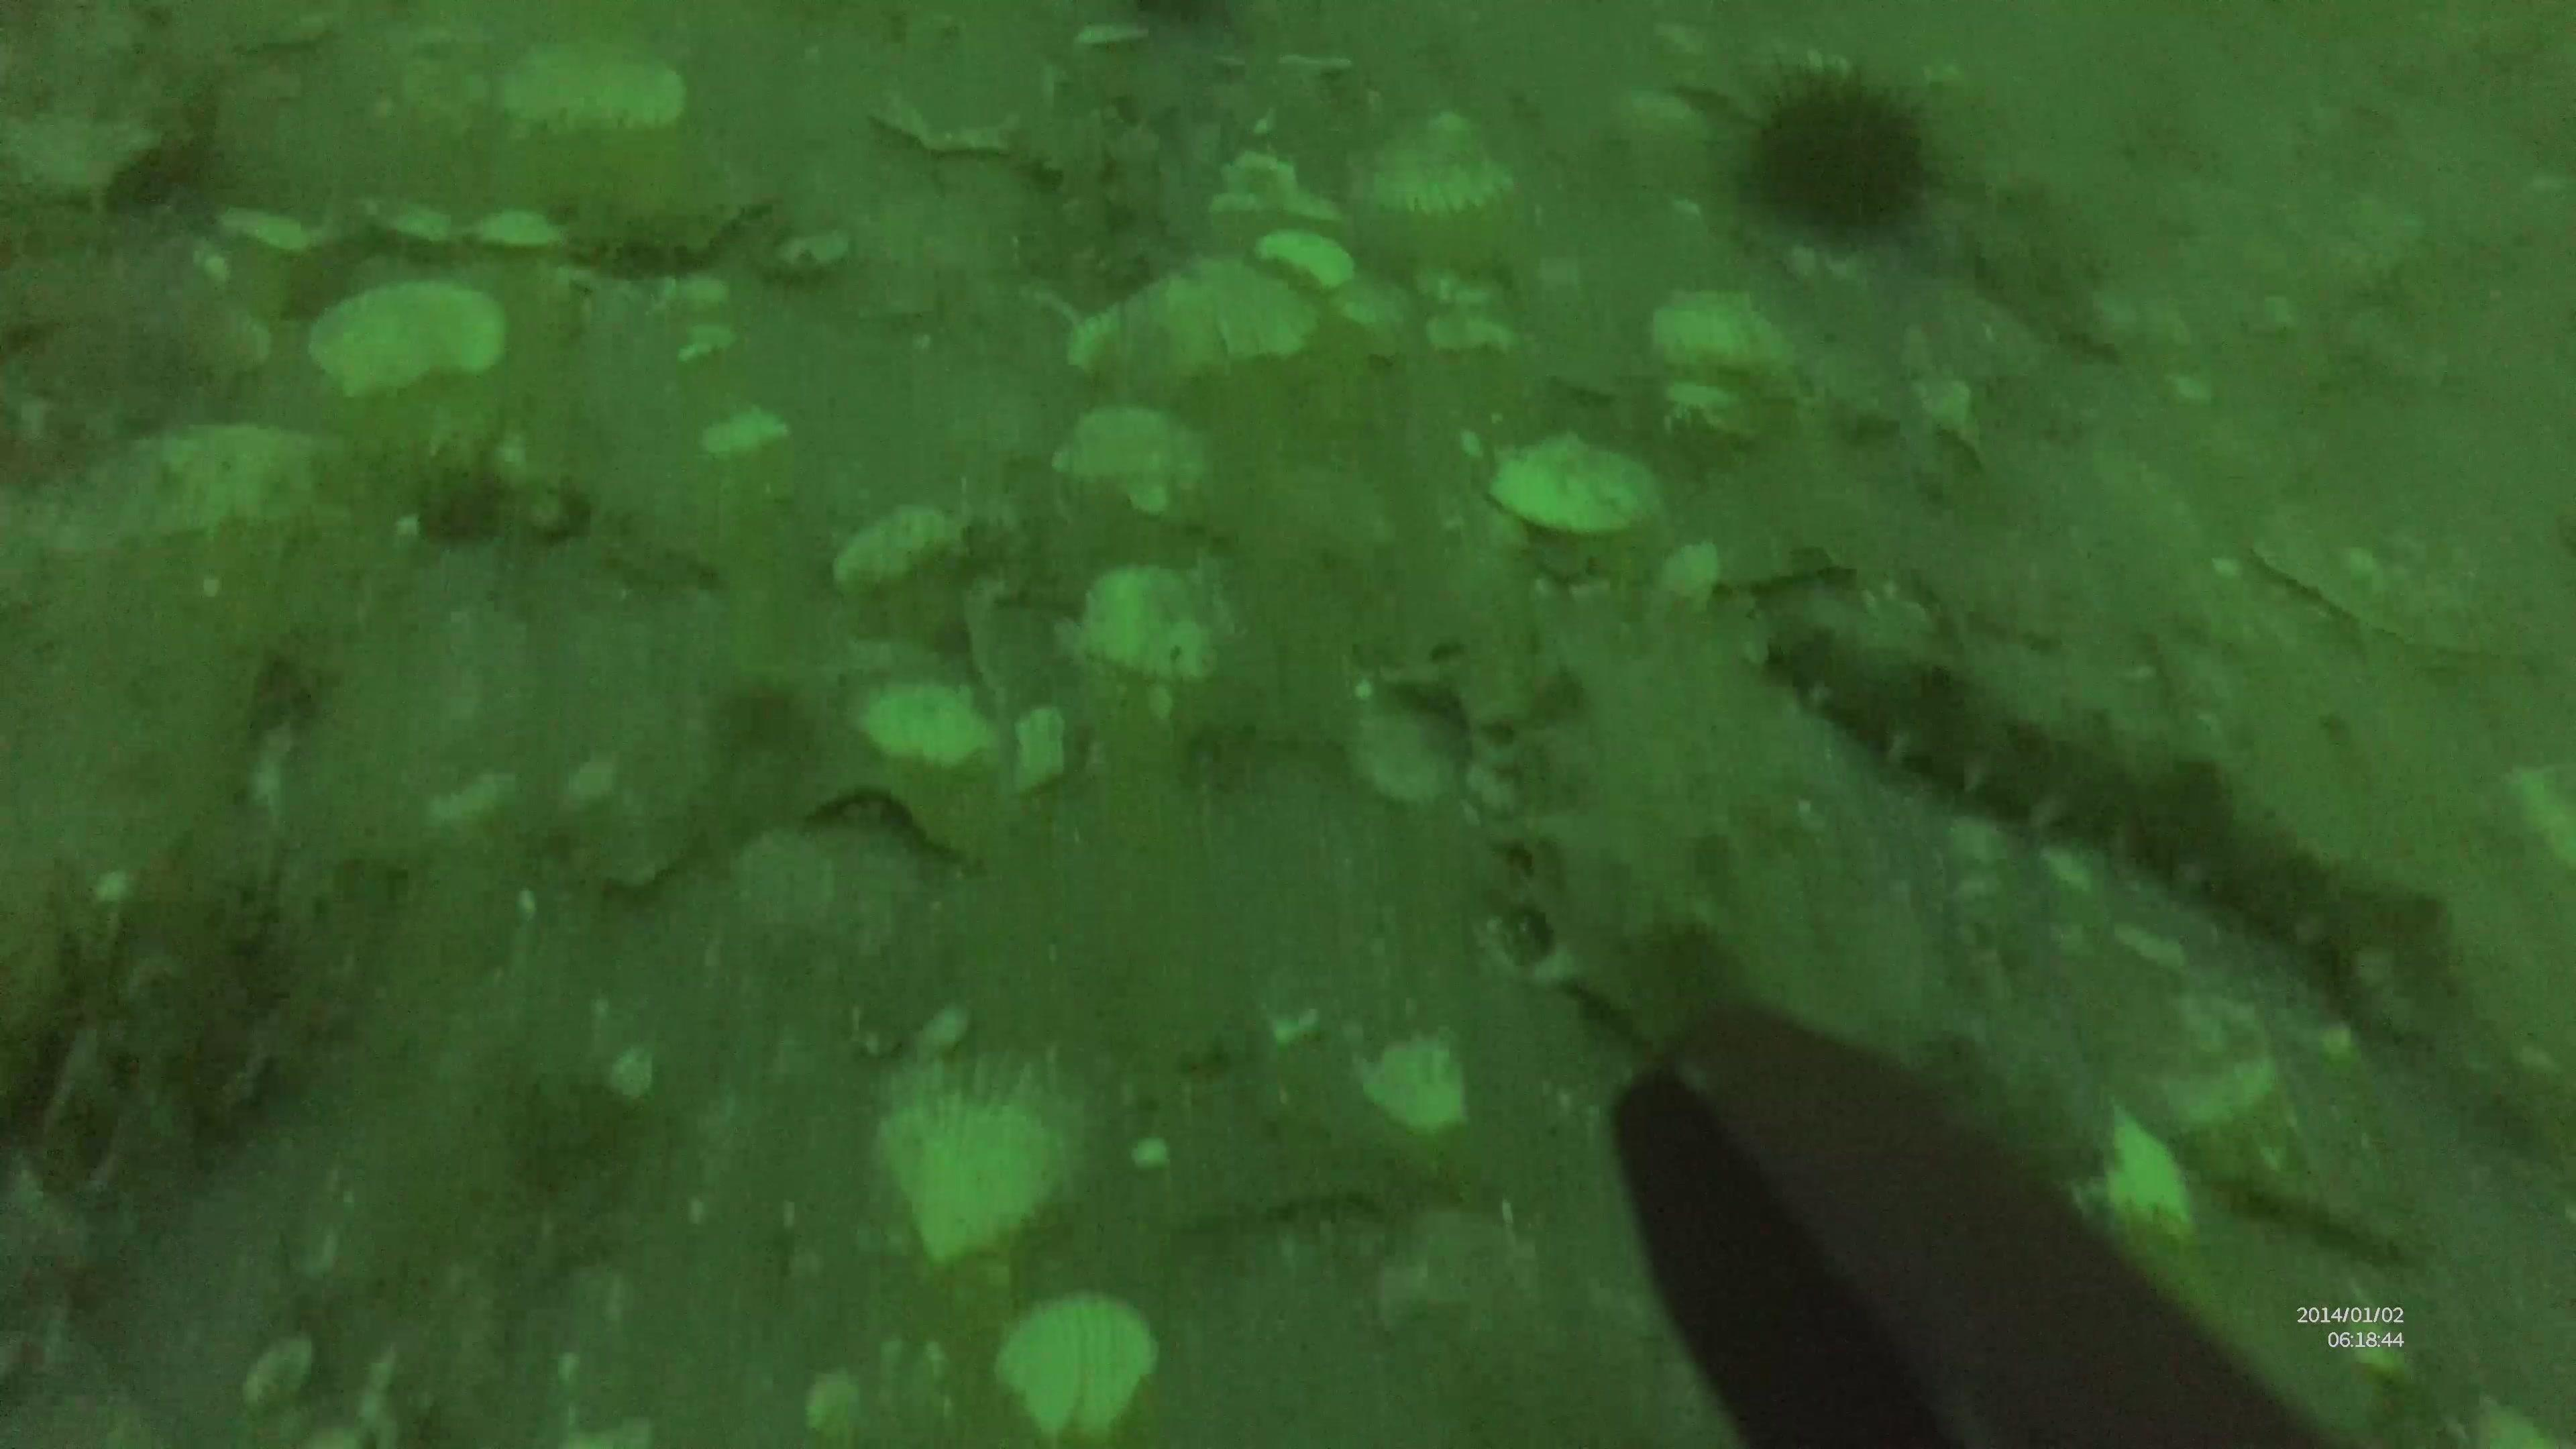echinus: (1723, 62, 1936, 249)
holothurian: (1773, 580, 2454, 977)
scallop: (867, 1042, 1166, 1272), (989, 1292, 1166, 1442), (308, 281, 508, 402), (1486, 428, 1658, 541), (1345, 108, 1513, 219)
